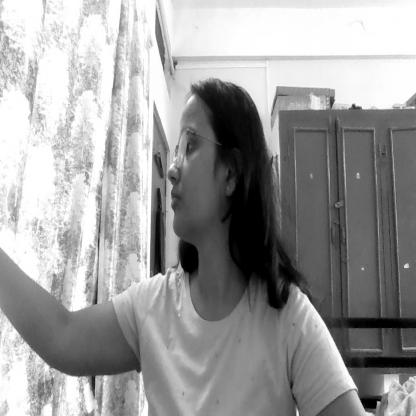Distracted: (164, 97, 251, 266)
